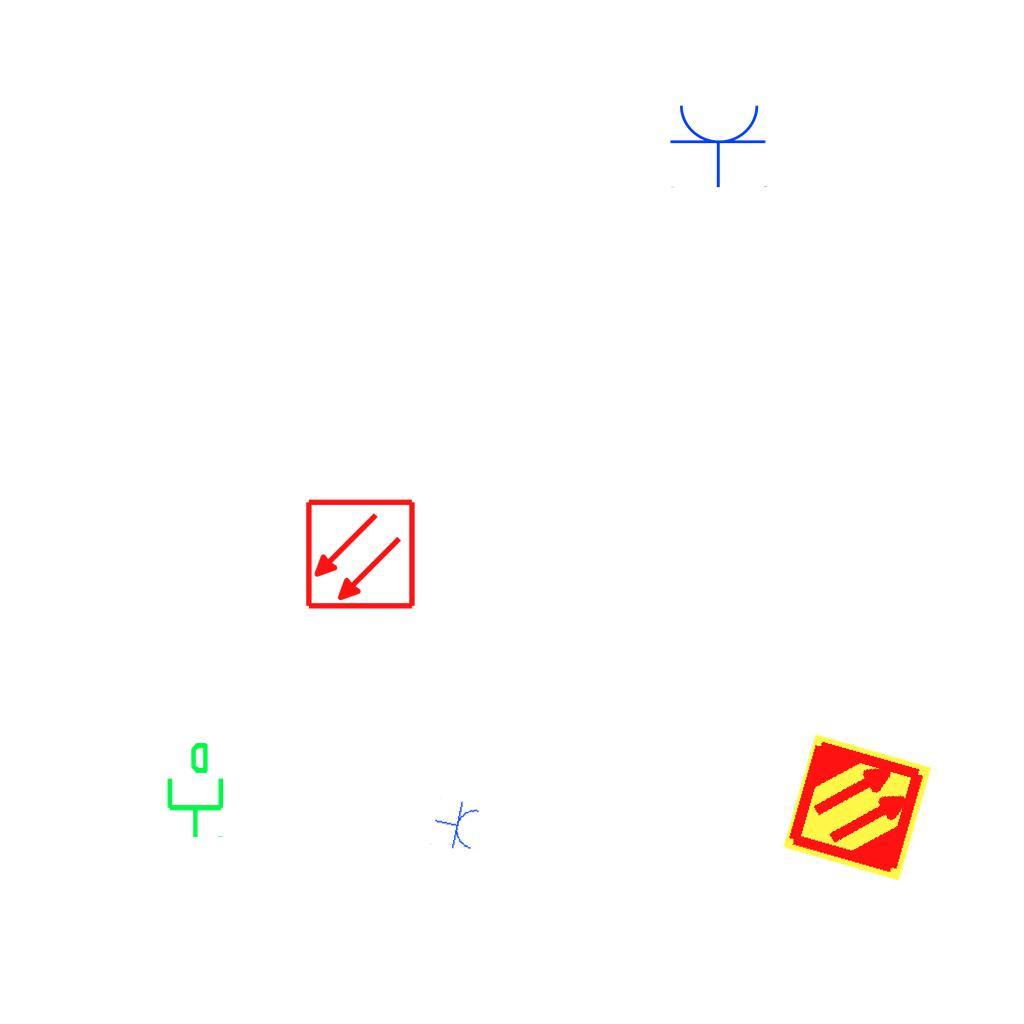ASR_Ansaugrauchmelder: (780, 730, 935, 885)
Datenanschluss_einfach: (159, 740, 228, 840)
RMO_Rauchmelder_optischer: (304, 498, 417, 611)
Schukosteckdose_einfach: (669, 101, 769, 188), (429, 796, 483, 855)
